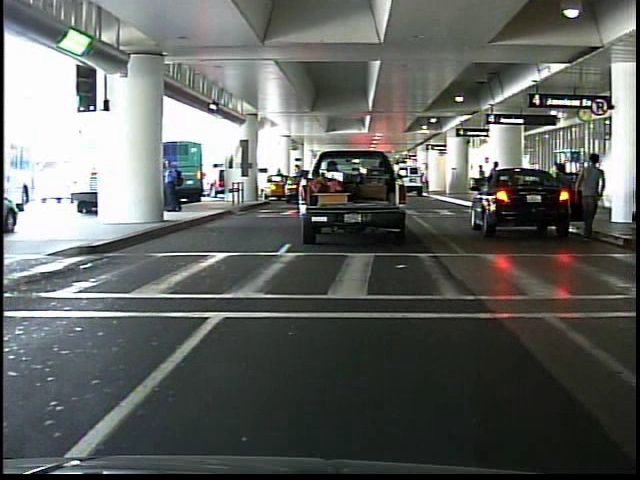person: (569, 151, 610, 243), (162, 149, 186, 216)
